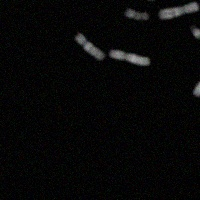chromosome: (75, 34, 105, 60), (159, 2, 198, 20), (109, 50, 150, 65), (125, 7, 148, 20), (193, 73, 200, 96), (191, 27, 200, 40)
